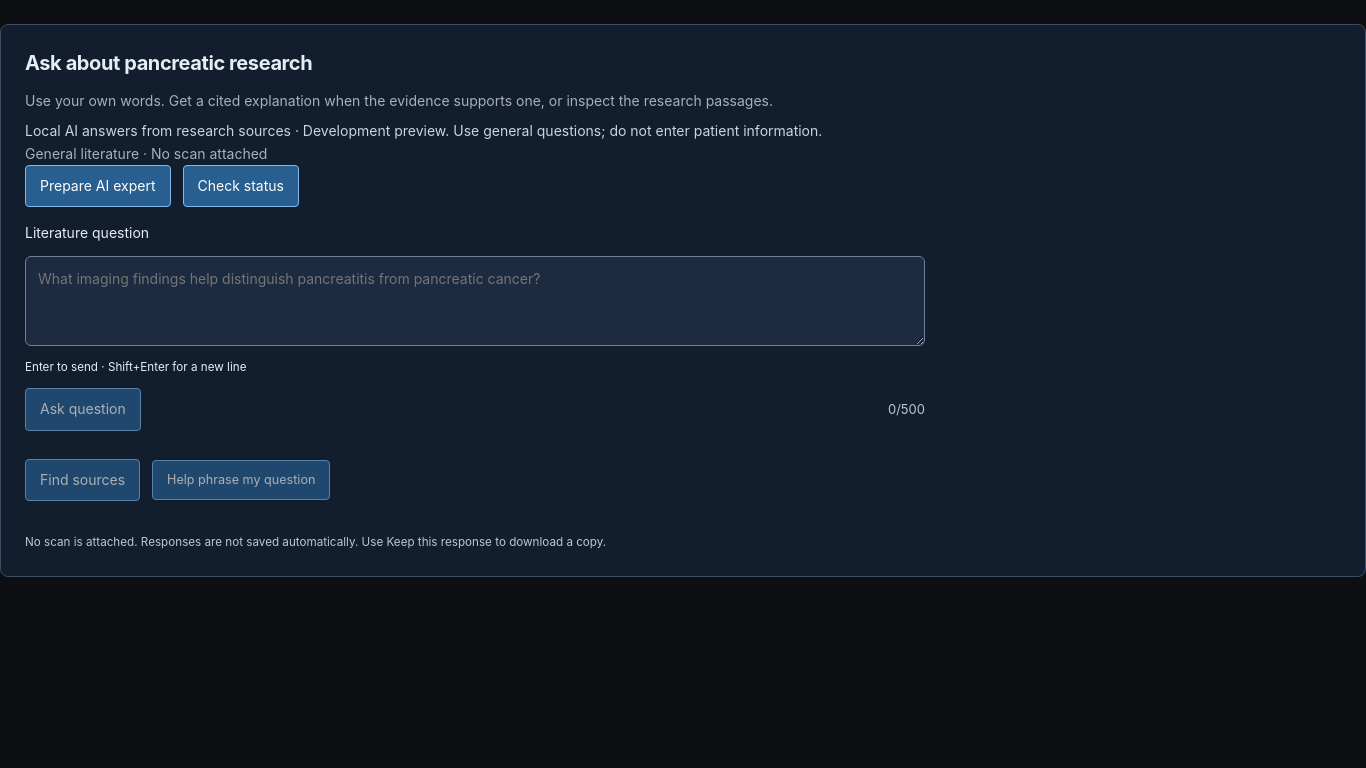
it: cancels pending work
In the text box labelled "Literature question": [475, 301] box x1=25 y1=256 x2=925 y2=346, type "Pancreatic cancer"
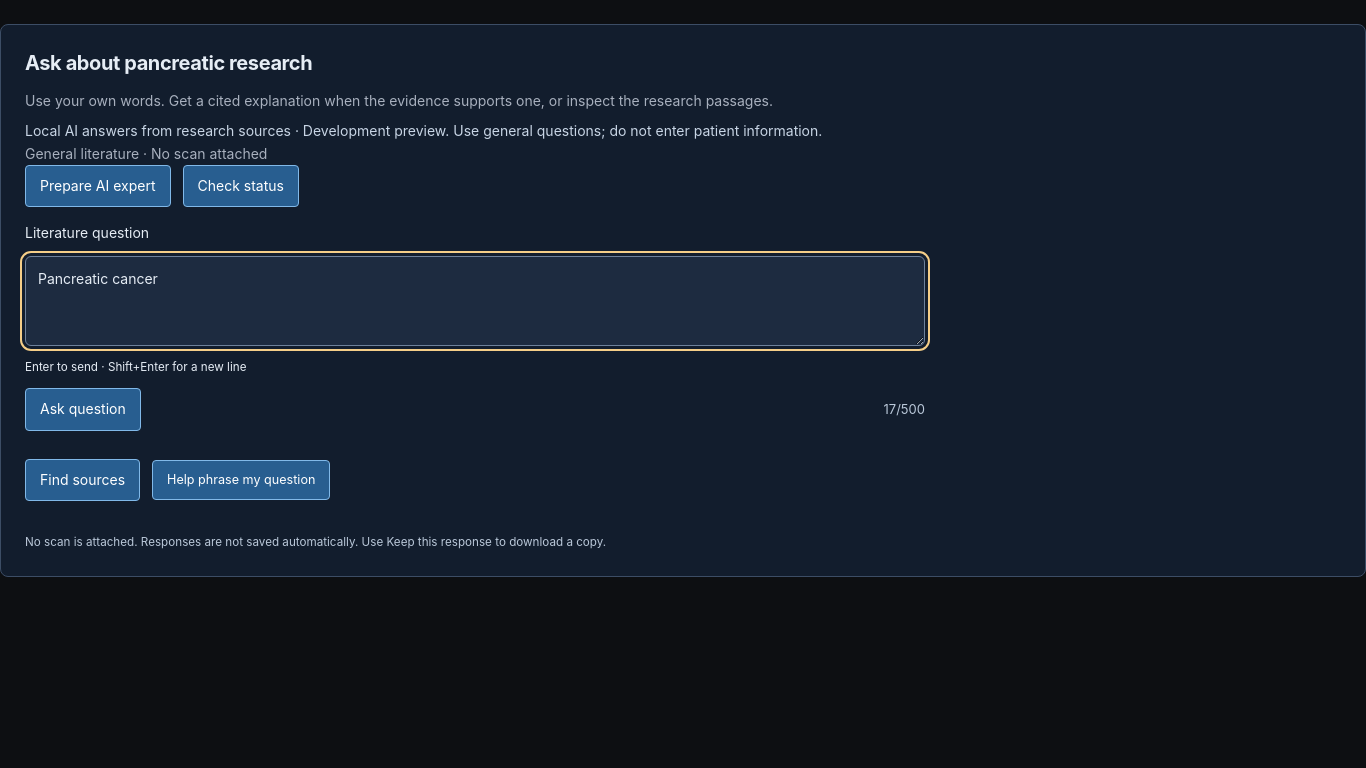
Click the button "Ask question": [83, 410] box x1=25 y1=388 x2=141 y2=431
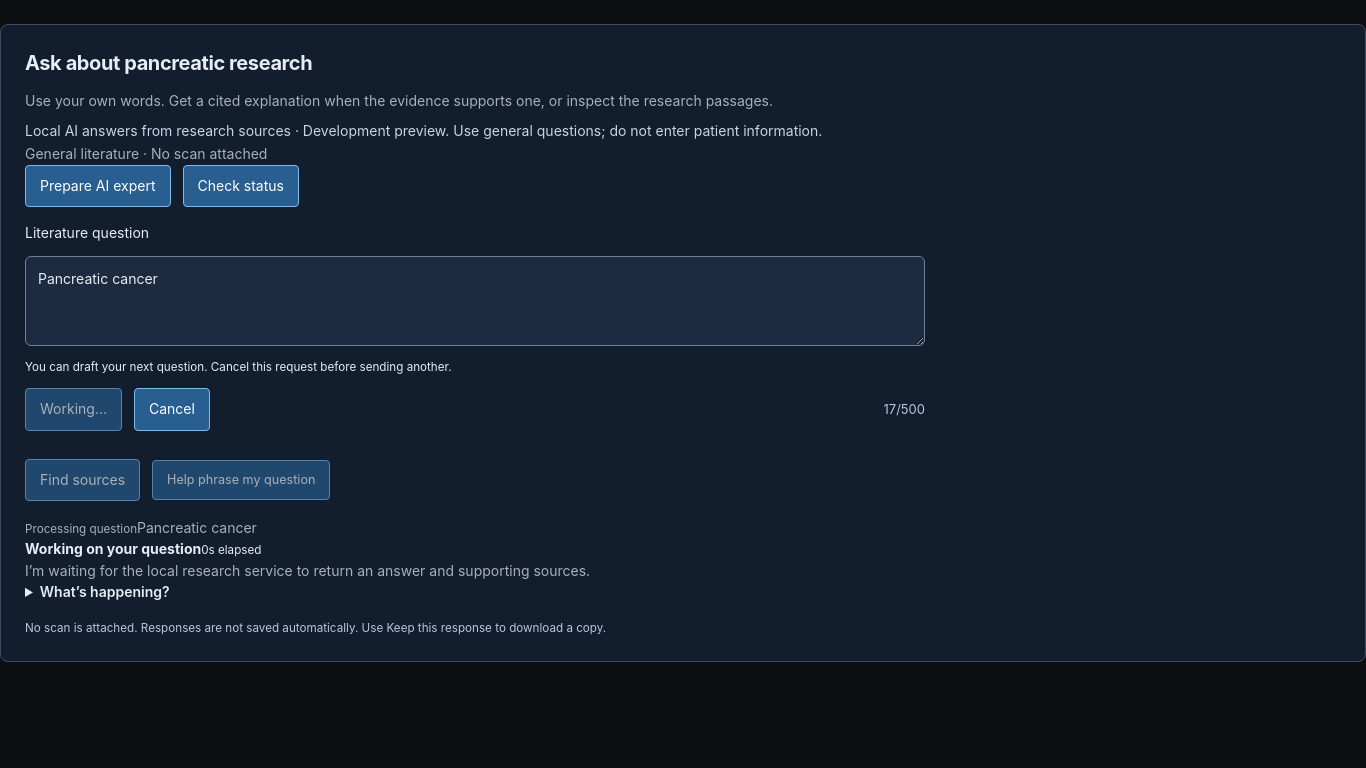
Click the button "Cancel": [172, 410] box x1=134 y1=388 x2=210 y2=431
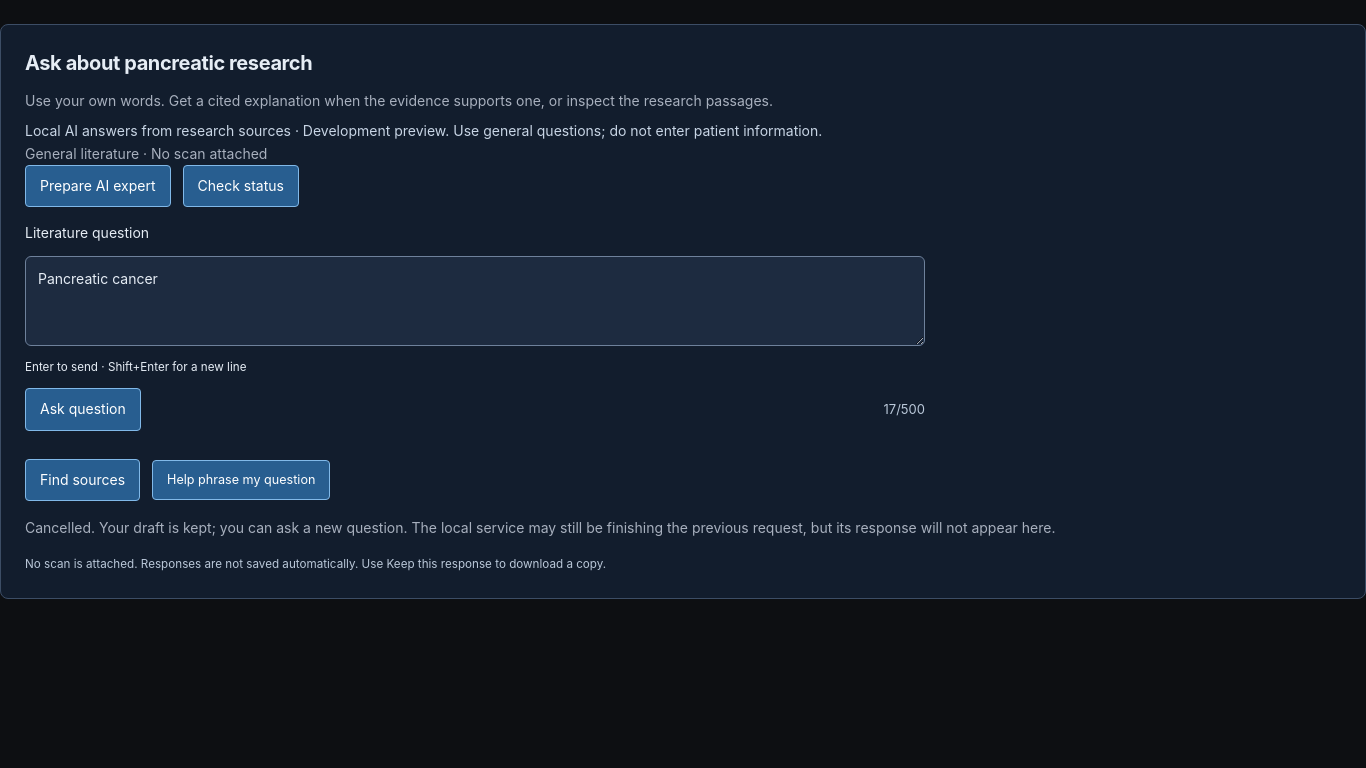
Check: the button "Ask question" is enabled, box x1=25 y1=388 x2=141 y2=431
